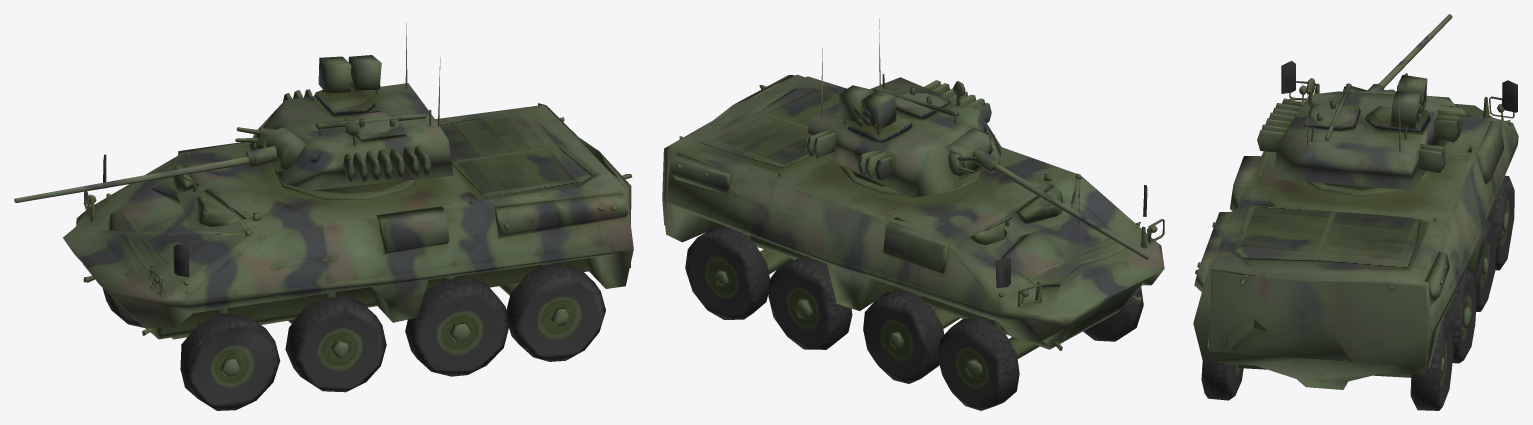
File: cn-zbl-09.glb
3 renders of one model, left to right at view 1: azimuth 30°, elevation 25°; view 2: azimuth 150°, elevation 25°; view 3: azimuth 270°, elevation 25°, orthographic. The views are drawn at different scales.
Visible parts, largest first — view 1: geometry_0; view 2: geometry_0; view 3: geometry_0.
Part boxes in pixels (x1,y1,x2,y2): geometry_0: [14, 22, 633, 410]; geometry_0: [662, 19, 1164, 410]; geometry_0: [1193, 14, 1518, 410].
Size of the model in its own units: 1 by 0.5411 by 0.5506.
1 material, 1 textured.
